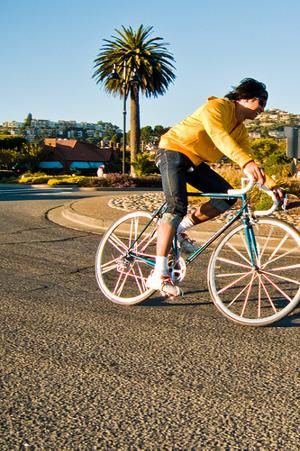person: (147, 78, 285, 299)
